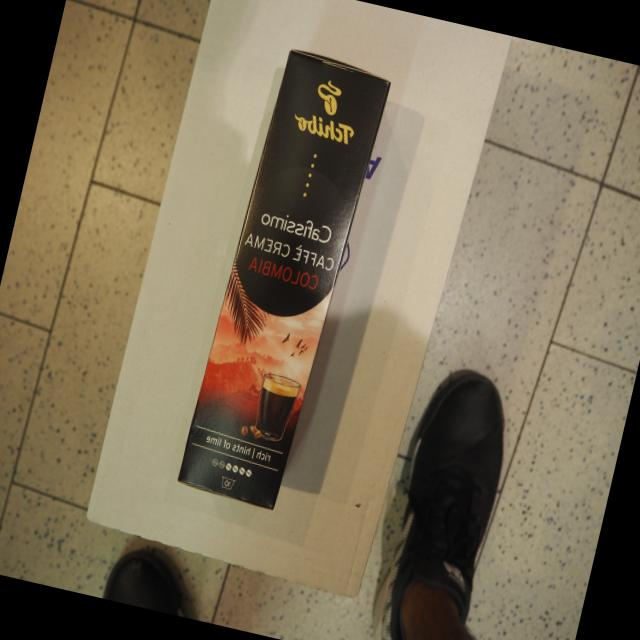Simo CC Colombia: (171, 43, 397, 516)
